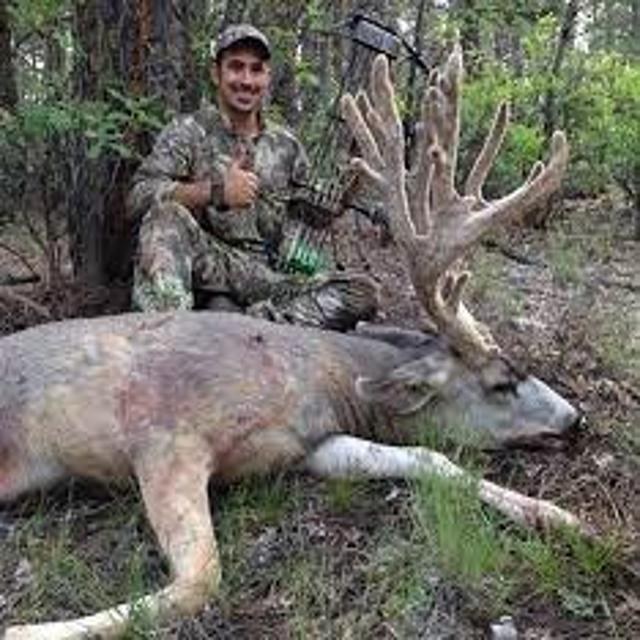deer: (3, 255, 614, 640)
ranger: (73, 8, 446, 356)
